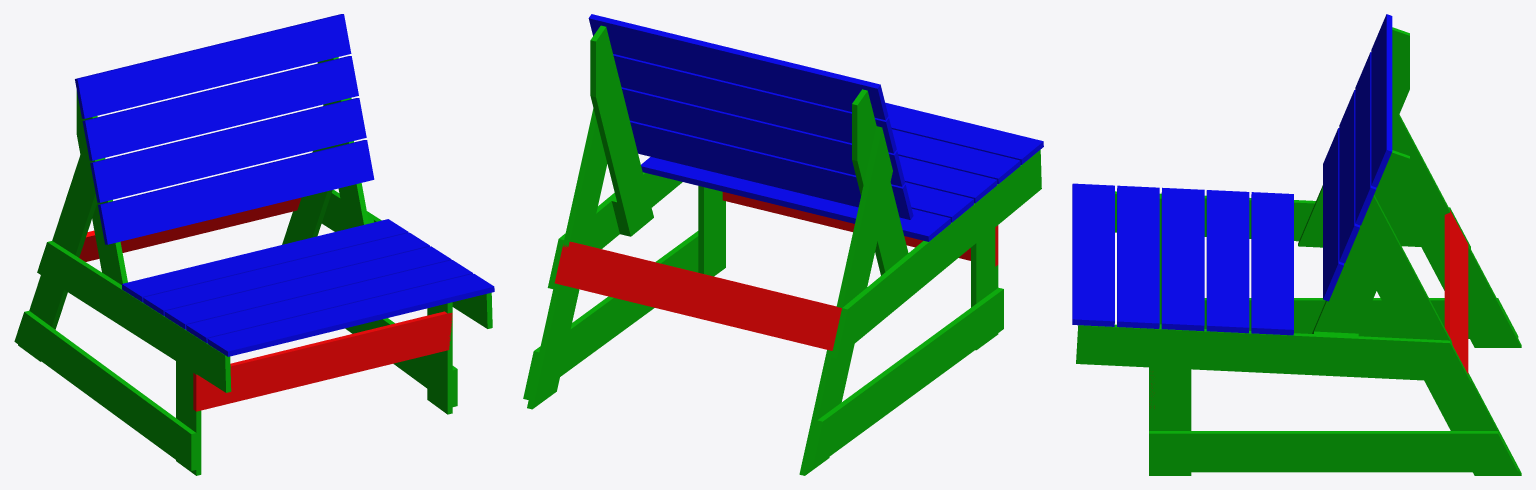
The model's file is result.glb.
3 views of the same model, side by side, from view 1: azimuth 30°, elevation 25°; view 2: azimuth 150°, elevation 25°; view 3: azimuth 270°, elevation 25° (orthographic). The views are drawn at different scales.
Visible parts, largest first — view 1: 9350b985-ea32-48c7-af6e-bc1085dce5cc__Box_5, 0aa2736a-9408-4436-96bd-f06df729e078__Box_7, 8c8d8a07-0b61-495a-9373-fe0b1b8e764e__Box_8, 44ea1b81-2bac-4c64-813d-35ee7bb80895__Box_6, 347b0443-9b1a-45d1-a708-82e233a4fe29__Plane_1, 55c0f982-5389-44ec-8068-f20f91be3580__undefined, 85e7bc57-d437-41c5-8132-e7d662a4d740__undefined, 3878fc26-d989-4898-a578-34bac67417b9__Box, 5e82474f-e67f-49fd-b620-ef262b3254cc__Box_2, 9fe7b75d-0739-482c-8458-4f1a985c8cff__Box_1, 4ee8b4dc-78c9-4c70-8750-a4c25966e860__Box_3, c2ba5338-8aae-43c1-9847-4e46d71456b9__Box_4 (+9 smaller); view 2: be733990-68f2-4674-a9de-e73480d0aab2__Plane_2, 8c8d8a07-0b61-495a-9373-fe0b1b8e764e__Box_8, 85e7bc57-d437-41c5-8132-e7d662a4d740__undefined, 55c0f982-5389-44ec-8068-f20f91be3580__undefined, 6b288556-6471-4333-8ae0-e0578859f9f7__undefined (×2), 0aa2736a-9408-4436-96bd-f06df729e078__Box_7, 9350b985-ea32-48c7-af6e-bc1085dce5cc__Box_5, 44ea1b81-2bac-4c64-813d-35ee7bb80895__Box_6, 2e1e0d16-8259-4140-b8a0-62e9d68833b2__undefined, 661bcb9a-3732-4f09-96fa-455e7f04c769__undefined, c2ba5338-8aae-43c1-9847-4e46d71456b9__Box_4, 88ca4c18-c2d7-420c-82db-48f9cf1ef6dd__Plane (+9 smaller); view 3: 8e263ffe-693d-4d3b-8bf4-fe72ed13a3ad__undefined, 88ca4c18-c2d7-420c-82db-48f9cf1ef6dd__Plane, 6b288556-6471-4333-8ae0-e0578859f9f7__undefined (×2), 2e1e0d16-8259-4140-b8a0-62e9d68833b2__undefined, 5e82474f-e67f-49fd-b620-ef262b3254cc__Box_2, 4ee8b4dc-78c9-4c70-8750-a4c25966e860__Box_3, c2ba5338-8aae-43c1-9847-4e46d71456b9__Box_4, 9fe7b75d-0739-482c-8458-4f1a985c8cff__Box_1, 3878fc26-d989-4898-a578-34bac67417b9__Box, 661bcb9a-3732-4f09-96fa-455e7f04c769__undefined, 8c8d8a07-0b61-495a-9373-fe0b1b8e764e__Box_8, be733990-68f2-4674-a9de-e73480d0aab2__Plane_2 (+7 smaller).
Boxes of the visible parts, x1,y1,x2,y2 form: 9350b985-ea32-48c7-af6e-bc1085dce5cc__Box_5: (98, 140, 374, 244); 0aa2736a-9408-4436-96bd-f06df729e078__Box_7: (82, 56, 358, 160); 8c8d8a07-0b61-495a-9373-fe0b1b8e764e__Box_8: (75, 14, 351, 118); 44ea1b81-2bac-4c64-813d-35ee7bb80895__Box_6: (90, 98, 366, 202); 347b0443-9b1a-45d1-a708-82e233a4fe29__Plane_1: (193, 311, 452, 411); 55c0f982-5389-44ec-8068-f20f91be3580__undefined: (14, 311, 196, 470); 85e7bc57-d437-41c5-8132-e7d662a4d740__undefined: (37, 241, 231, 392); 3878fc26-d989-4898-a578-34bac67417b9__Box: (207, 273, 494, 356); 5e82474f-e67f-49fd-b620-ef262b3254cc__Box_2: (164, 246, 451, 329); 9fe7b75d-0739-482c-8458-4f1a985c8cff__Box_1: (186, 260, 472, 343); 4ee8b4dc-78c9-4c70-8750-a4c25966e860__Box_3: (143, 232, 429, 315); c2ba5338-8aae-43c1-9847-4e46d71456b9__Box_4: (121, 219, 408, 302); be733990-68f2-4674-a9de-e73480d0aab2__Plane_2: (554, 241, 841, 350); 8c8d8a07-0b61-495a-9373-fe0b1b8e764e__Box_8: (588, 14, 888, 120); 85e7bc57-d437-41c5-8132-e7d662a4d740__undefined: (831, 150, 1041, 358); 55c0f982-5389-44ec-8068-f20f91be3580__undefined: (806, 287, 1003, 469); 6b288556-6471-4333-8ae0-e0578859f9f7__undefined (×2): (527, 108, 607, 409); 0aa2736a-9408-4436-96bd-f06df729e078__Box_7: (613, 54, 896, 153); 9350b985-ea32-48c7-af6e-bc1085dce5cc__Box_5: (630, 120, 913, 219); 44ea1b81-2bac-4c64-813d-35ee7bb80895__Box_6: (621, 87, 904, 186); 2e1e0d16-8259-4140-b8a0-62e9d68833b2__undefined: (799, 126, 892, 475); 661bcb9a-3732-4f09-96fa-455e7f04c769__undefined: (590, 25, 653, 236); c2ba5338-8aae-43c1-9847-4e46d71456b9__Box_4: (641, 157, 950, 241); 88ca4c18-c2d7-420c-82db-48f9cf1ef6dd__Plane: (523, 231, 698, 399); 8e263ffe-693d-4d3b-8bf4-fe72ed13a3ad__undefined: (1076, 324, 1470, 382); 88ca4c18-c2d7-420c-82db-48f9cf1ef6dd__Plane: (1149, 431, 1518, 472); 6b288556-6471-4333-8ae0-e0578859f9f7__undefined (×2): (1352, 195, 1521, 475); 2e1e0d16-8259-4140-b8a0-62e9d68833b2__undefined: (1392, 114, 1521, 347); 5e82474f-e67f-49fd-b620-ef262b3254cc__Box_2: (1161, 187, 1204, 331); 4ee8b4dc-78c9-4c70-8750-a4c25966e860__Box_3: (1206, 190, 1249, 333); c2ba5338-8aae-43c1-9847-4e46d71456b9__Box_4: (1251, 192, 1293, 335); 9fe7b75d-0739-482c-8458-4f1a985c8cff__Box_1: (1117, 185, 1159, 328); 3878fc26-d989-4898-a578-34bac67417b9__Box: (1072, 183, 1114, 326); 661bcb9a-3732-4f09-96fa-455e7f04c769__undefined: (1312, 150, 1409, 333); 8c8d8a07-0b61-495a-9373-fe0b1b8e764e__Box_8: (1371, 14, 1392, 187); be733990-68f2-4674-a9de-e73480d0aab2__Plane_2: (1444, 210, 1468, 374).
Size of the model in its own units: 681 by 769 by 953.
